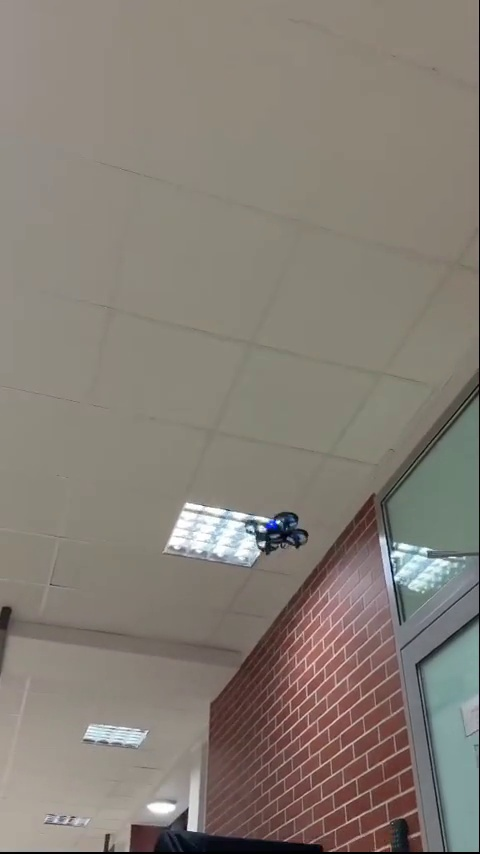drone: (242, 511, 306, 557)
